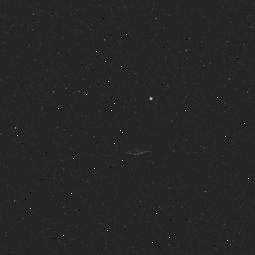smart_1: (94, 110, 191, 194)
